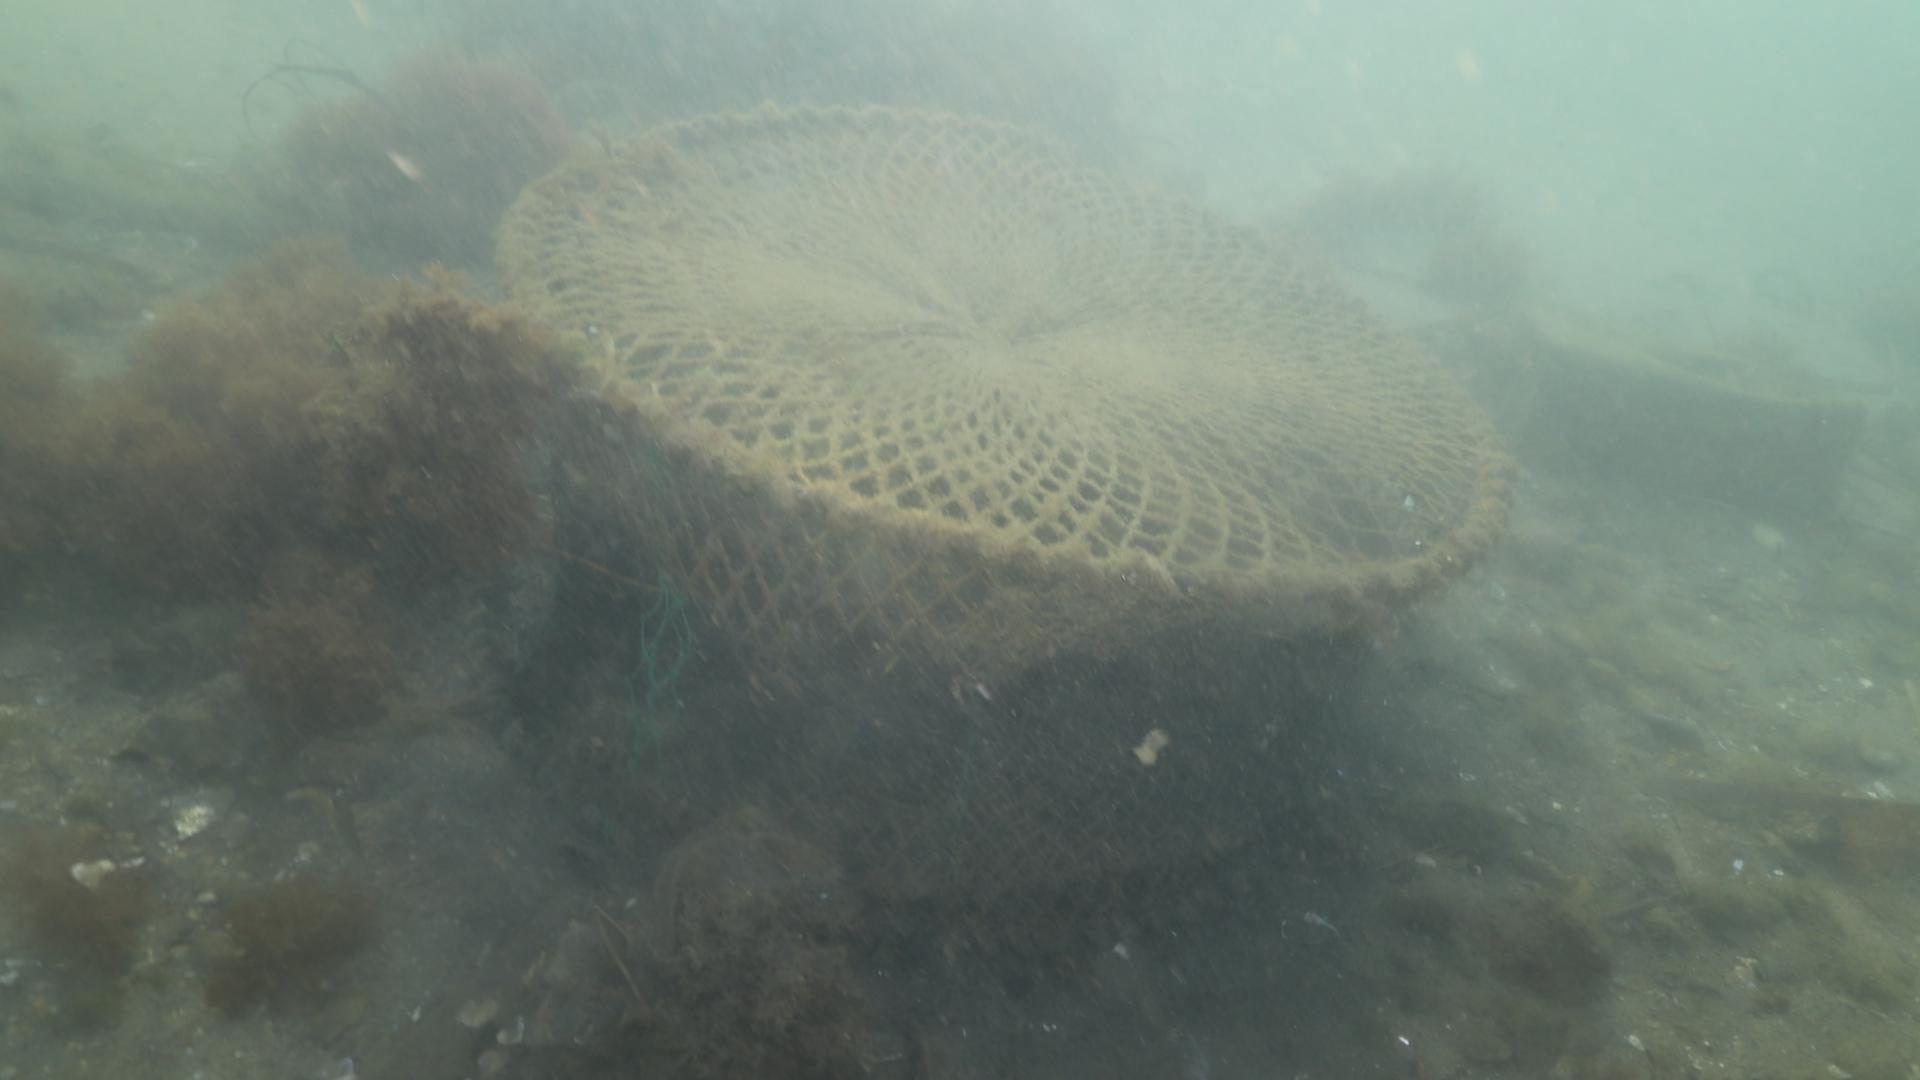circular fish trap: (495, 102, 1513, 975)
